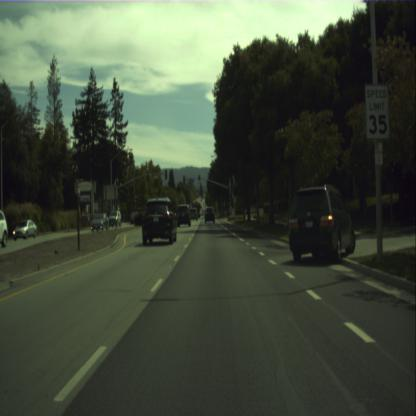Green: (198, 174, 200, 183)
Red: (183, 174, 185, 184)
